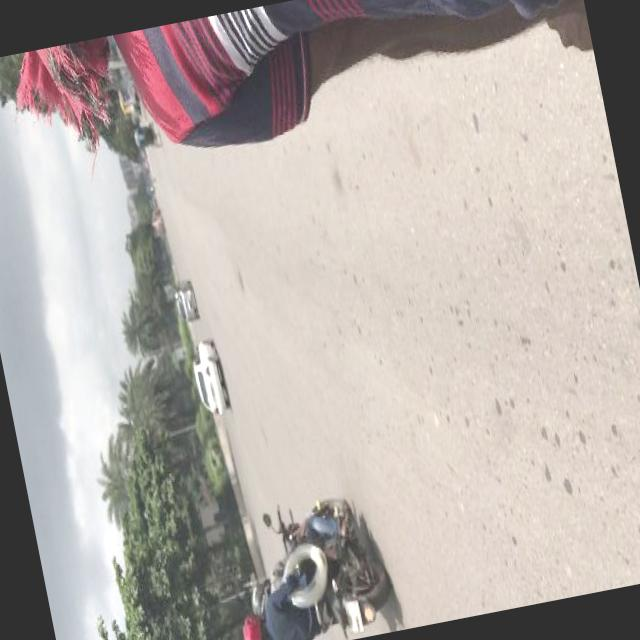car: (186, 333, 232, 419), (170, 274, 200, 324)
motorcycle: (216, 478, 402, 640), (130, 116, 164, 149)
